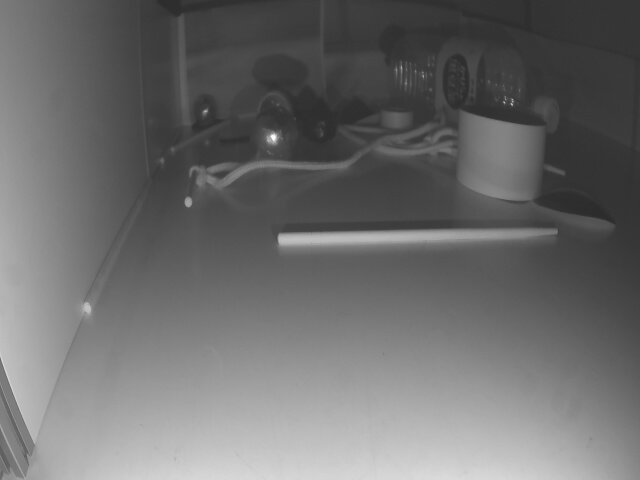Dead: (306, 102, 339, 143)
Live: (254, 97, 299, 169), (189, 95, 219, 126)
